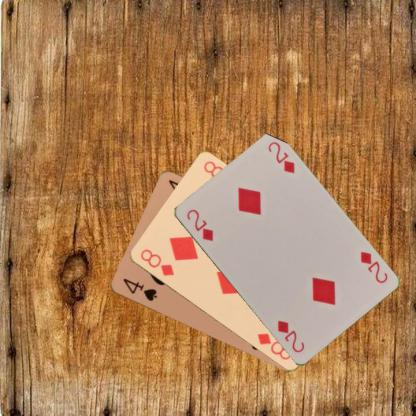2d: (357, 248, 389, 285), (184, 206, 214, 243)
4s: (120, 275, 158, 302)
8d: (138, 246, 175, 277)
